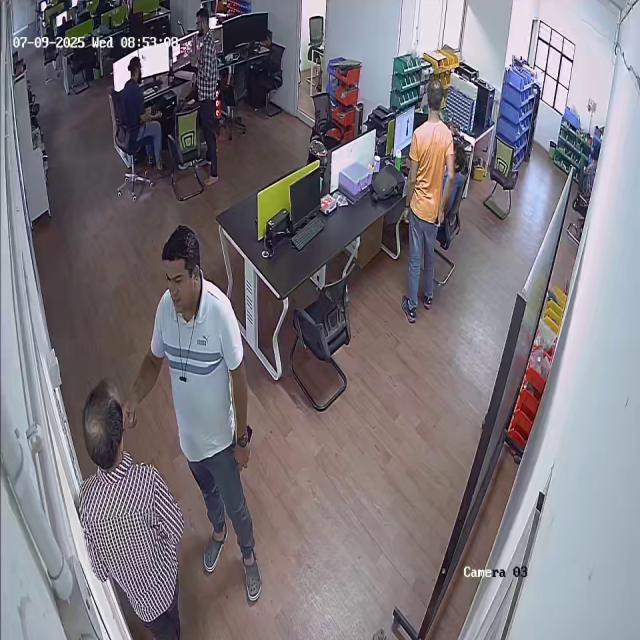person: (158, 226, 261, 612), (66, 378, 182, 640), (401, 76, 457, 323), (188, 9, 226, 187), (121, 58, 162, 172)
